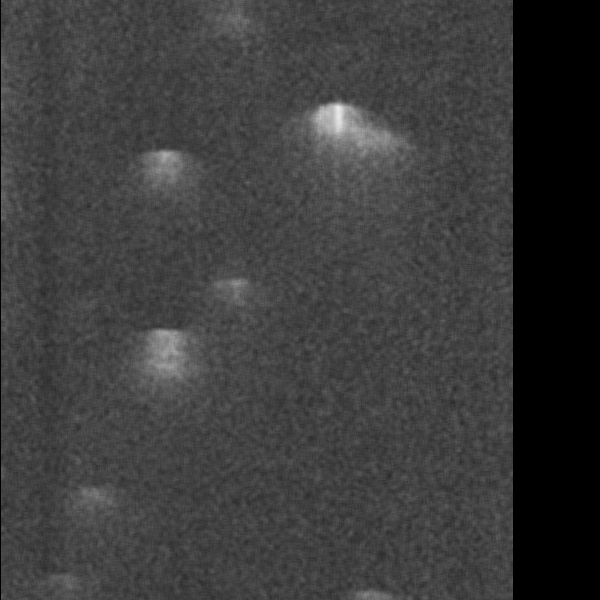spark: (472, 64, 498, 86)
